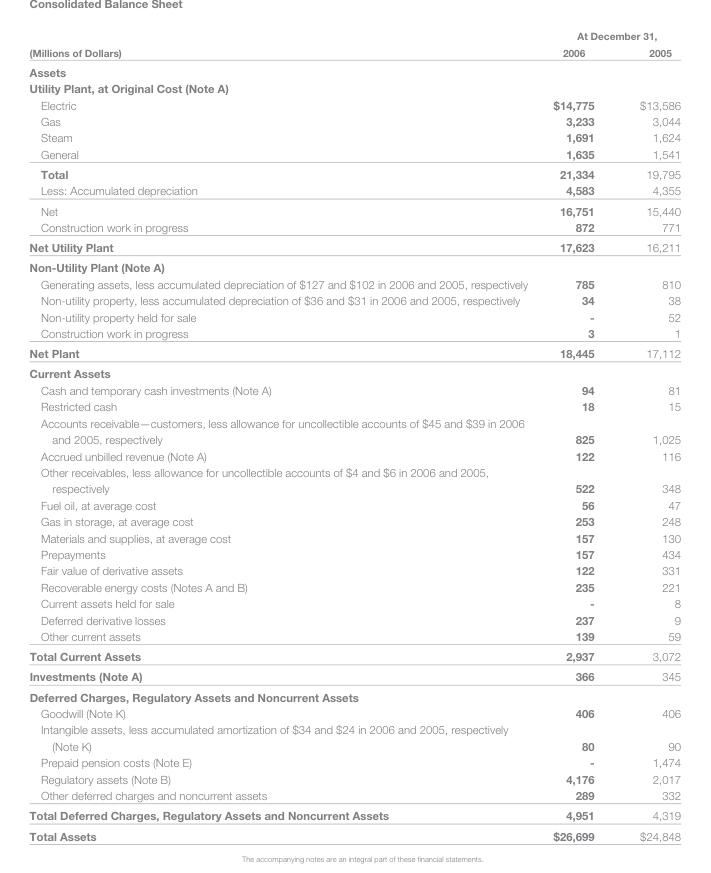table: (28, 29, 680, 842)
table column: (28, 29, 539, 842), (539, 29, 616, 842), (616, 29, 680, 842)
table column header: (28, 29, 680, 61)
table projected row header: (28, 61, 680, 79), (28, 257, 680, 275), (28, 363, 680, 381), (28, 686, 680, 704), (28, 79, 680, 96)
table row: (28, 414, 680, 447), (28, 463, 680, 496), (28, 720, 680, 753), (28, 236, 680, 257), (28, 342, 680, 363), (28, 645, 680, 666), (28, 666, 680, 686), (28, 805, 680, 825), (28, 181, 680, 200), (28, 786, 680, 805), (28, 43, 680, 61), (28, 61, 680, 79), (28, 145, 680, 163), (28, 163, 680, 181), (28, 200, 680, 218), (28, 218, 680, 236), (28, 257, 680, 275), (28, 324, 680, 342), (28, 363, 680, 381), (28, 627, 680, 645), (28, 686, 680, 704), (28, 79, 680, 96), (28, 128, 680, 145), (28, 291, 680, 308), (28, 397, 680, 414), (28, 512, 680, 529), (28, 561, 680, 578), (28, 594, 680, 611), (28, 753, 680, 770), (28, 825, 680, 842), (28, 96, 680, 112), (28, 112, 680, 128), (28, 275, 680, 291), (28, 308, 680, 324), (28, 381, 680, 397), (28, 447, 680, 463), (28, 496, 680, 512), (28, 529, 680, 545), (28, 545, 680, 561), (28, 578, 680, 594), (28, 611, 680, 627), (28, 704, 680, 720), (28, 770, 680, 786), (28, 29, 680, 43)
table spanning cell: (28, 29, 539, 61), (539, 29, 680, 43)
